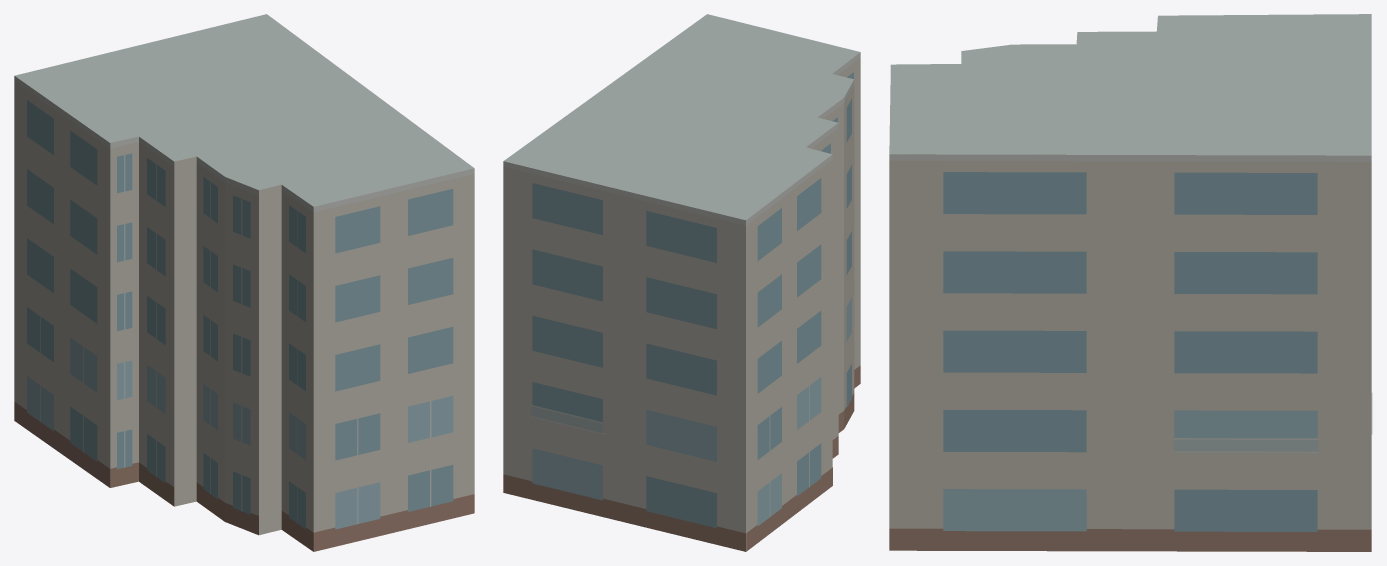
Rendered from survey-upis-32791843.glb.
The picture shows the model from 3 angles, left to right: view 1: azimuth 30°, elevation 25°; view 2: azimuth 150°, elevation 25°; view 3: azimuth 270°, elevation 25°; orthographic projection. The views are drawn at different scales.
Visible parts, largest first — view 1: survey-upis-32791843.tmp; view 2: survey-upis-32791843.tmp; view 3: survey-upis-32791843.tmp.
Part boxes in pixels (x1=…): survey-upis-32791843.tmp: x1=14, y1=14, x2=474, y2=551; survey-upis-32791843.tmp: x1=503, y1=14, x2=860, y2=551; survey-upis-32791843.tmp: x1=889, y1=14, x2=1372, y2=551.
Bounding box in the file's own units: 11.72 × 15.25 × 16.87.
